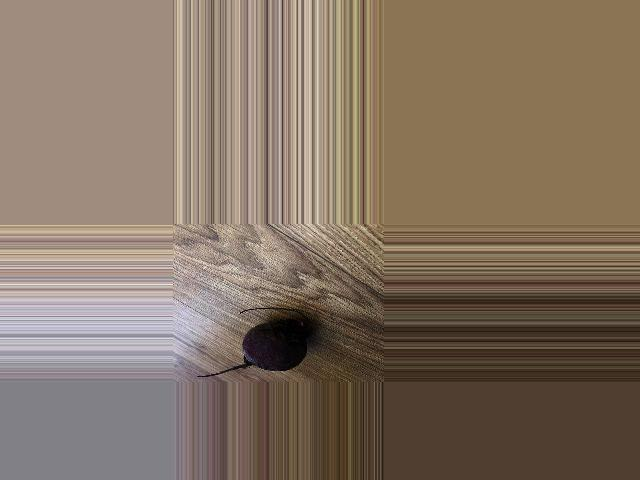beet: (196, 308, 310, 377)
